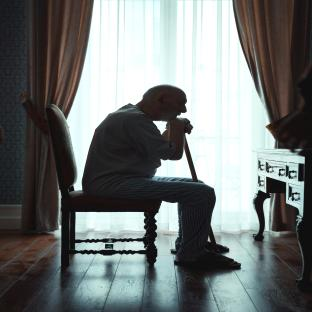Human: (82, 85, 241, 269), (217, 244, 229, 252)
